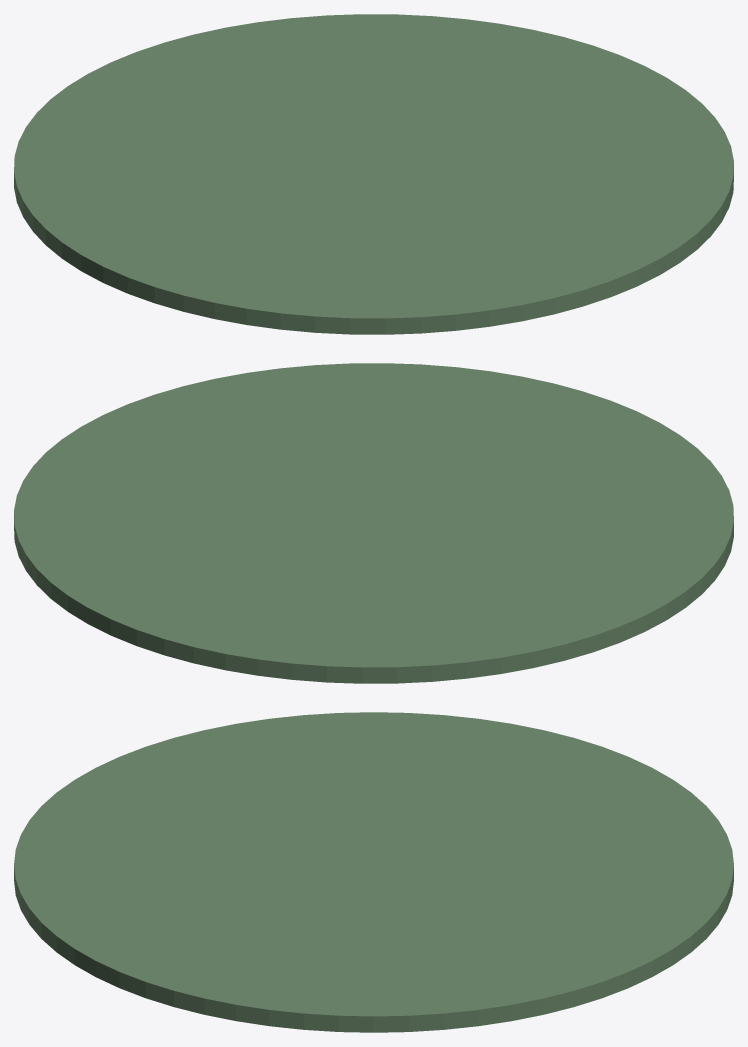
The model's file is platter.gltf.
3 views of the same model, one above another, from view 1: azimuth 30°, elevation 25°; view 2: azimuth 150°, elevation 25°; view 3: azimuth 270°, elevation 25° (orthographic).
Visible parts, largest first — view 1: Cylinder; view 2: Cylinder; view 3: Cylinder.
Part boxes in pixels (bbox=[...]): Cylinder: bbox=[14, 14, 733, 334]; Cylinder: bbox=[14, 363, 733, 683]; Cylinder: bbox=[14, 712, 733, 1032].
Bounding box in the file's own units: 4 × 0.1 × 4.
